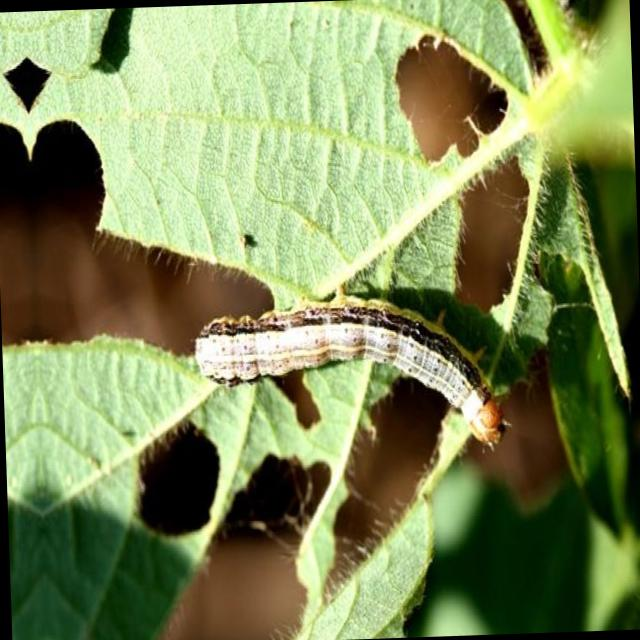Armyworm: (198, 254, 530, 487)
Armyworm_damage: (108, 399, 239, 561)
